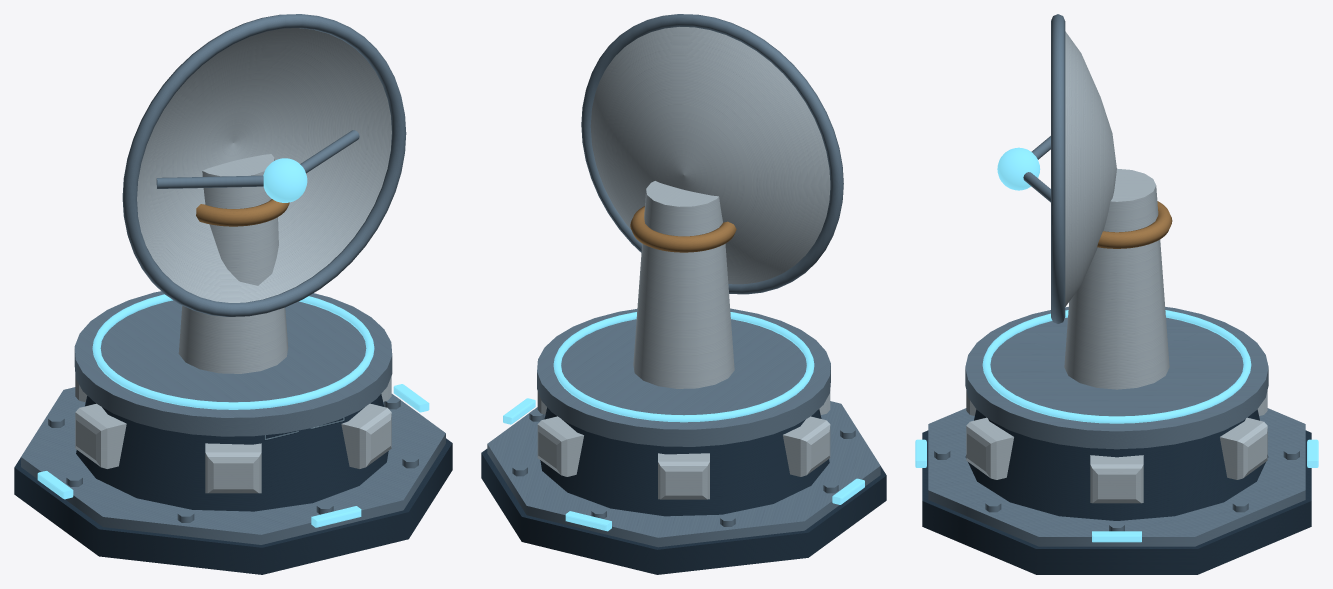
The model's file is pulse.glb.
3 renders of one model, left to right at view 1: azimuth 30°, elevation 25°; view 2: azimuth 150°, elevation 25°; view 3: azimuth 270°, elevation 25°, orthographic. The views are drawn at different scales.
Visible parts, largest first — view 1: Brushed titanium (×3), Antenna reflector, Graphite composite, Ceramic titanium armor, Status light (×2), Copper heat exchanger, Model component; view 2: Brushed titanium (×2), Antenna reflector, Graphite composite, Ceramic titanium armor, Status light (×2), Copper heat exchanger; view 3: Brushed titanium (×3), Graphite composite, Ceramic titanium armor, Antenna reflector, Status light (×2), Copper heat exchanger, Model component.
Boxes of the visible parts, x1,y1,x2,y2 form: Brushed titanium (×3): (21, 14, 445, 544); Antenna reflector: (137, 28, 391, 302); Graphite composite: (14, 394, 452, 574); Ceramic titanium armor: (75, 154, 391, 493); Status light (×2): (37, 294, 429, 527); Copper heat exchanger: (196, 199, 289, 226); Model component: (263, 158, 307, 202); Brushed titanium (×2): (487, 14, 880, 547); Antenna reflector: (590, 27, 830, 284); Graphite composite: (481, 407, 886, 574); Ceramic titanium armor: (537, 181, 830, 499); Status light (×2): (503, 312, 864, 531); Copper heat exchanger: (630, 206, 736, 252); Brushed titanium (×3): (928, 14, 1305, 546); Graphite composite: (922, 409, 1311, 574); Ceramic titanium armor: (966, 168, 1267, 503); Antenna reflector: (1065, 31, 1116, 306); Status light (×2): (915, 310, 1318, 542); Copper heat exchanger: (1097, 201, 1172, 248); Model component: (997, 147, 1040, 190).
Size of the model in its own units: 2.26 by 2.87 by 2.26.
7 materials, 6 textured.
